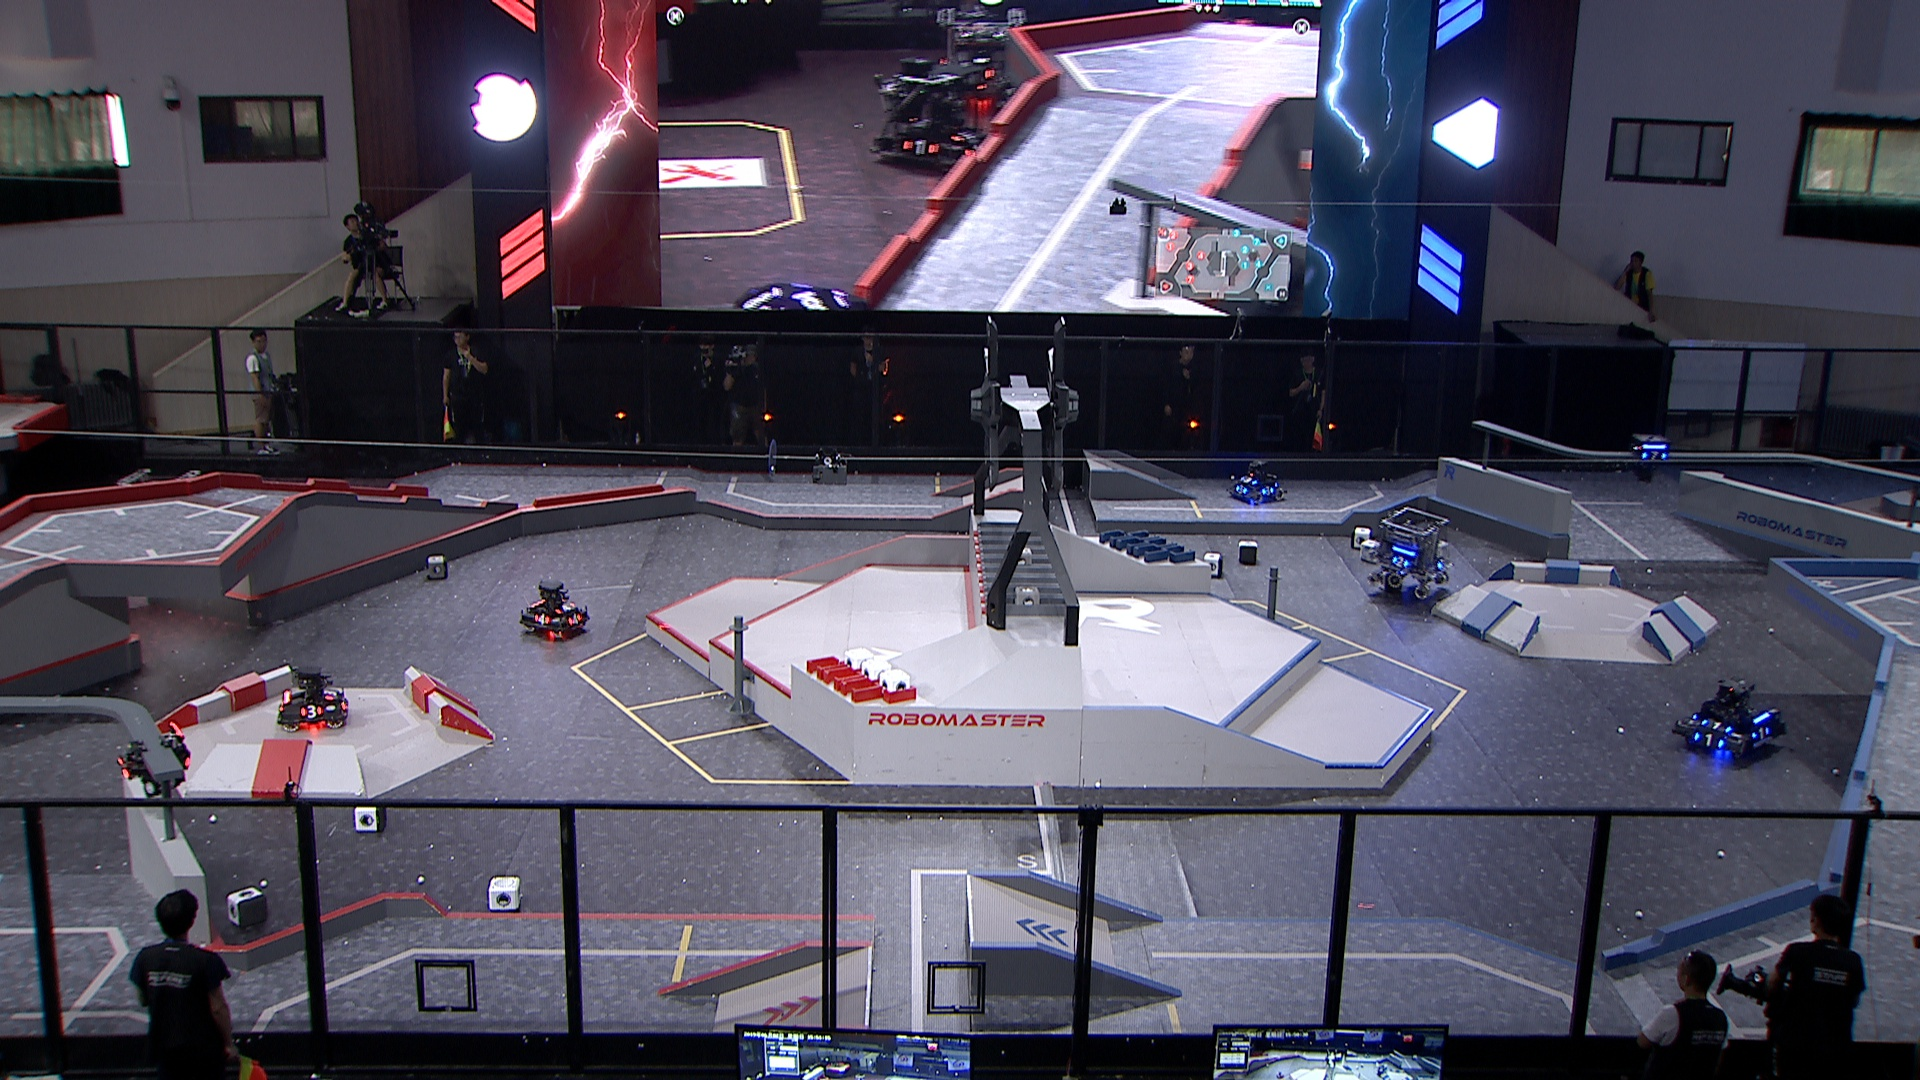armor: (1692, 731, 1727, 750), (1698, 717, 1735, 732), (299, 704, 324, 721), (1749, 727, 1771, 742), (1640, 450, 1669, 462), (1232, 483, 1251, 498), (531, 613, 555, 626), (1258, 485, 1276, 498), (1238, 473, 1257, 487), (320, 688, 339, 702), (555, 603, 575, 615), (564, 615, 583, 626), (1393, 556, 1410, 568)
car: (1669, 674, 1789, 761), (1357, 504, 1456, 604), (269, 665, 351, 735), (516, 578, 589, 640), (1222, 458, 1287, 505)
ignore: (870, 55, 992, 173), (932, 0, 1029, 102), (733, 282, 869, 319)
watcher: (119, 723, 193, 802), (1629, 433, 1676, 484)
